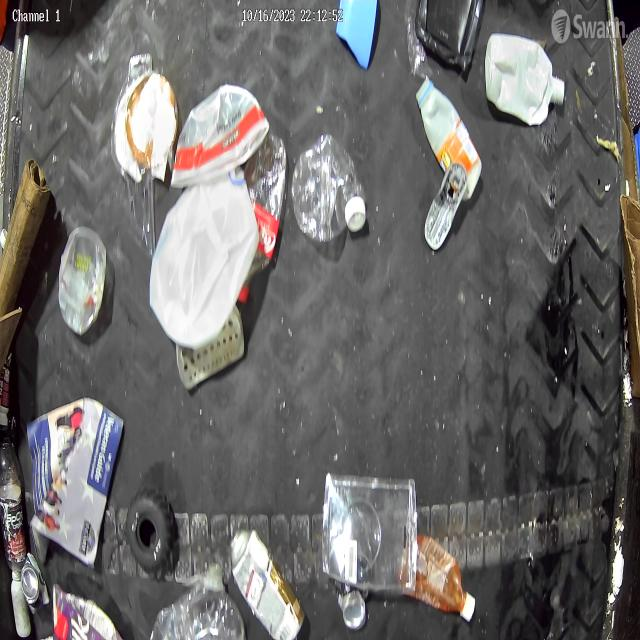can: (230, 526, 306, 640), (335, 582, 368, 632), (20, 562, 40, 606)
milk_jug: (151, 169, 258, 346), (416, 76, 482, 199), (485, 34, 565, 126)
plastic_bottle: (290, 131, 368, 243), (150, 564, 247, 640), (245, 134, 290, 279), (416, 532, 476, 622), (0, 435, 26, 571)
